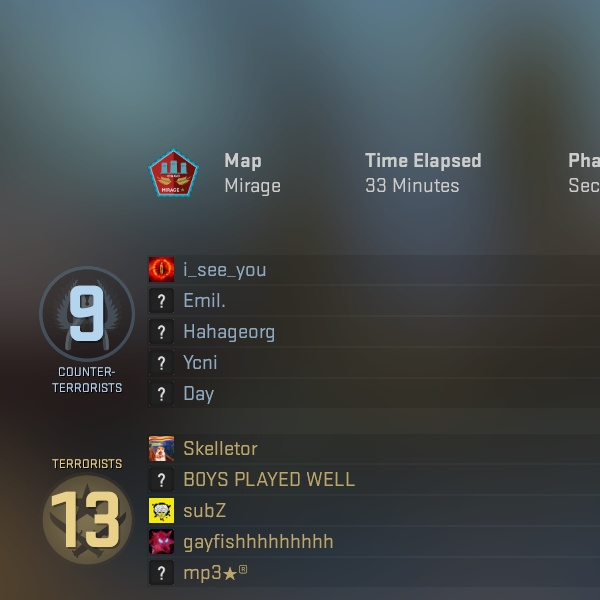t_body: (144, 519, 183, 593)
